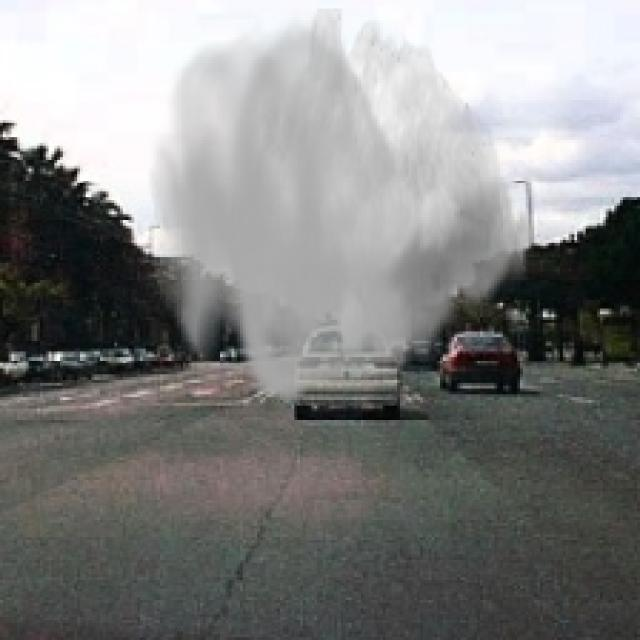smoke: (149, 9, 537, 408)
